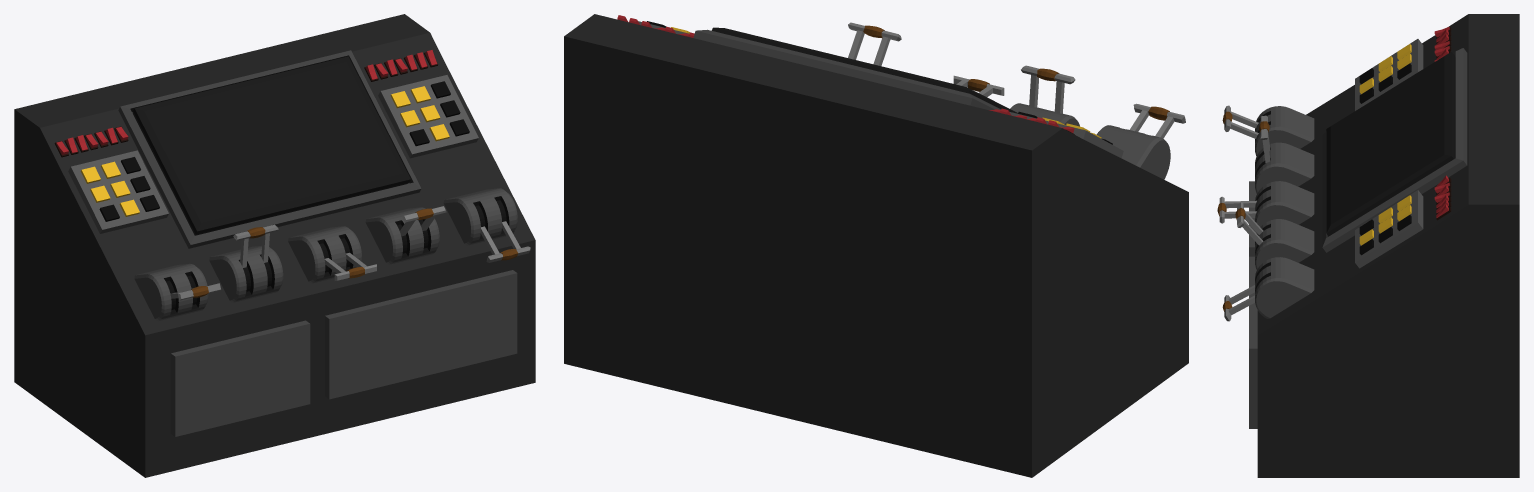
Rendered from Mesa 2 inteira.fbx.
3 renders of one model, left to right at view 1: azimuth 30°, elevation 25°; view 2: azimuth 150°, elevation 25°; view 3: azimuth 270°, elevation 25°, orthographic. The views are drawn at different scales.
Visible parts, largest first — view 1: Mesa 2, Monitor.002, Tampa.007, Tampa.006, Pad.006, Pad.004, Alavanca_Base.003, Alavanca_Base.004, Alavanca_Base.002, Alavanca_Base.006, Alavanca_Base.005, Alavanca.003 (+3 smaller); view 2: Mesa 2, Monitor.002, Alavanca_Base.002, Alavanca.004, Alavanca.005, Alavanca.002, Pad.004; view 3: Mesa 2, Monitor.002, Pad.006, Alavanca_Base.003, Pad.004, Alavanca_Base.006, Alavanca_Base.004, Alavanca_Base.005, Alavanca_Base.002, Tampa.007, Alavanca.002, Alavanca.003 (+3 smaller).
Boxes of the visible parts, left/top/right/bottom form: Mesa 2: left=14, top=14, right=535, bottom=477; Monitor.002: left=118, top=50, right=421, bottom=248; Tampa.007: left=325, top=270, right=517, bottom=399; Tampa.006: left=170, top=320, right=310, bottom=436; Pad.006: left=378, top=75, right=478, bottom=158; Pad.004: left=68, top=150, right=168, bottom=233; Alavanca_Base.003: left=443, top=188, right=517, bottom=245; Alavanca_Base.004: left=209, top=245, right=283, bottom=302; Alavanca_Base.002: left=134, top=263, right=208, bottom=321; Alavanca_Base.006: left=288, top=226, right=361, bottom=283; Alavanca_Base.005: left=365, top=207, right=439, bottom=264; Alavanca.003: left=481, top=221, right=530, bottom=262; Mesa 2: left=564, top=14, right=1188, bottom=477; Monitor.002: left=693, top=27, right=1018, bottom=113; Alavanca_Base.002: left=1096, top=125, right=1170, bottom=179; Alavanca.004: left=1021, top=65, right=1075, bottom=113; Alavanca.005: left=848, top=22, right=901, bottom=65; Alavanca.002: left=1129, top=103, right=1185, bottom=138; Pad.004: left=1009, top=111, right=1123, bottom=158; Mesa 2: left=1257, top=14, right=1519, bottom=477; Monitor.002: left=1322, top=48, right=1467, bottom=252; Pad.006: left=1355, top=190, right=1423, bottom=268; Alavanca_Base.003: left=1255, top=257, right=1314, bottom=318; Pad.004: left=1355, top=39, right=1423, bottom=110; Alavanca_Base.006: left=1255, top=181, right=1314, bottom=226; Alavanca_Base.004: left=1255, top=142, right=1314, bottom=193; Alavanca_Base.005: left=1255, top=219, right=1314, bottom=269; Alavanca_Base.002: left=1255, top=106, right=1314, bottom=156; Tampa.007: left=1249, top=256, right=1257, bottom=428; Alavanca.002: left=1222, top=105, right=1258, bottom=138; Alavanca.003: left=1222, top=285, right=1254, bottom=321.
Bounding box in the file's own units: 1852 × 1259 × 1240.
